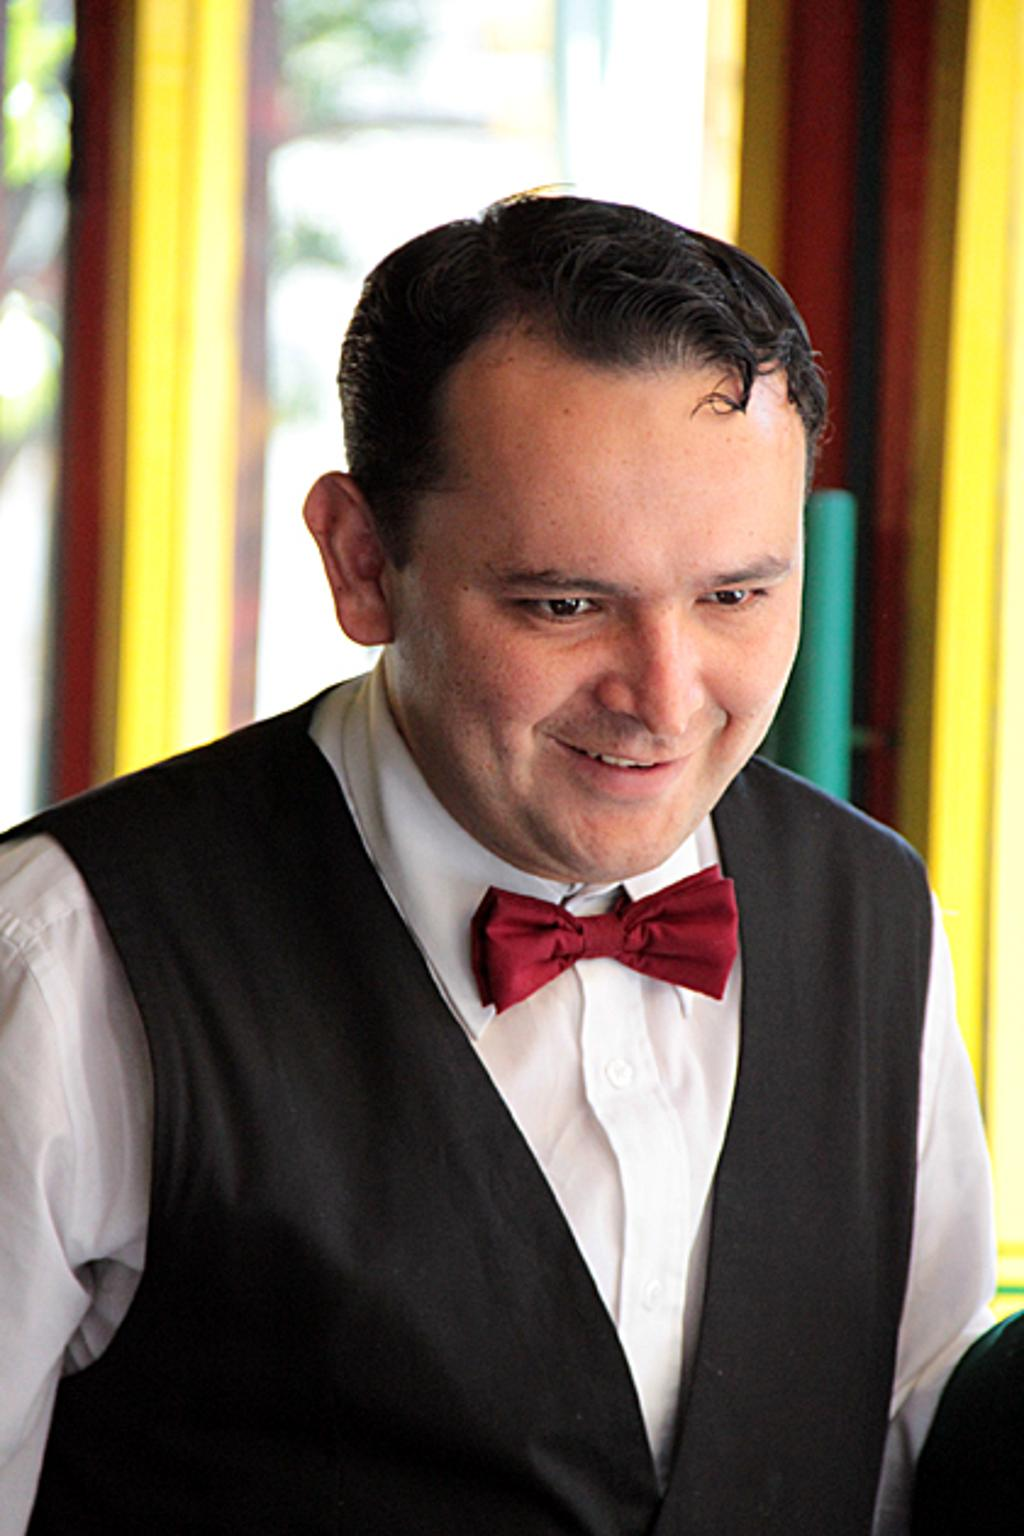face: (393, 330, 801, 874)
